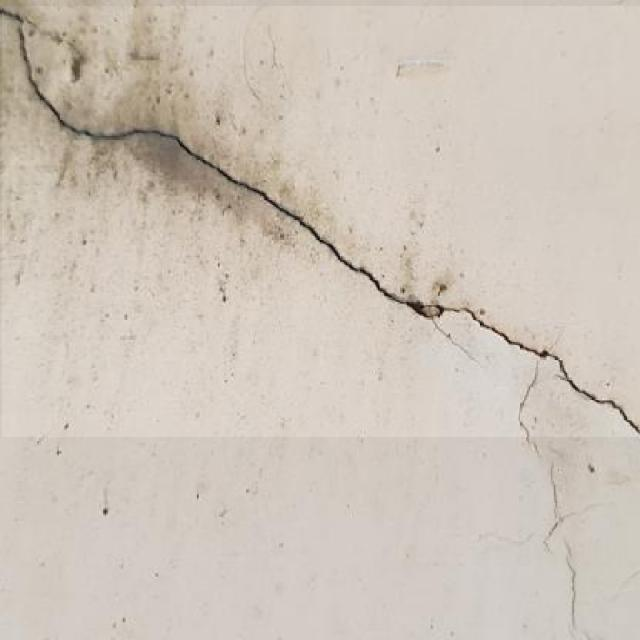diagonal crack: (2, 7, 640, 437)
